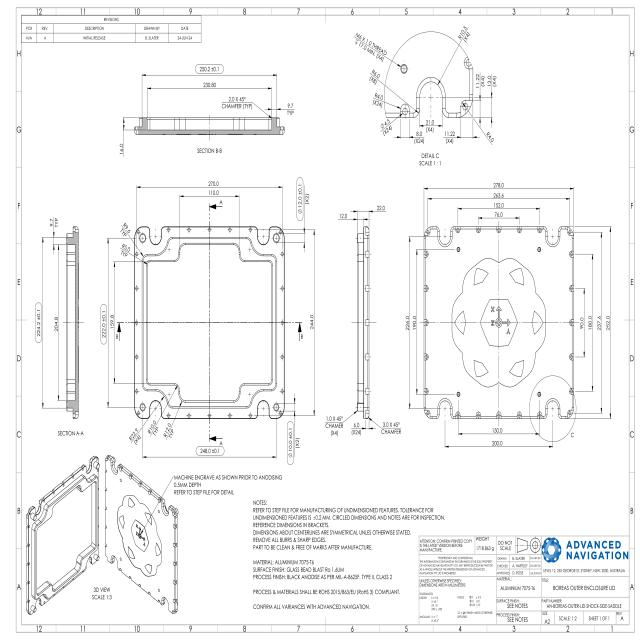dimension: (352, 31, 389, 64), (296, 176, 310, 222), (286, 420, 300, 466), (324, 414, 345, 437), (222, 95, 254, 110), (34, 301, 43, 344), (126, 425, 142, 448), (195, 62, 225, 74), (456, 24, 472, 46), (380, 420, 402, 436), (100, 303, 108, 345), (378, 116, 393, 138), (195, 446, 225, 456), (368, 67, 383, 86), (146, 419, 160, 438), (372, 90, 386, 108), (163, 421, 175, 442), (119, 221, 132, 239), (474, 72, 486, 88), (484, 130, 496, 146), (424, 118, 435, 135), (444, 130, 456, 145), (120, 242, 132, 257), (350, 421, 362, 436), (415, 129, 425, 146), (286, 101, 296, 117), (487, 73, 497, 88), (201, 80, 219, 88), (50, 215, 60, 228), (205, 180, 221, 188), (404, 314, 410, 333), (492, 191, 506, 199), (492, 200, 506, 208), (53, 314, 59, 332), (411, 314, 417, 332), (586, 314, 592, 332), (605, 314, 611, 332), (578, 315, 584, 332), (492, 210, 504, 218), (491, 426, 503, 434), (207, 189, 220, 196), (118, 141, 124, 156), (309, 313, 314, 331), (492, 181, 504, 188), (491, 439, 503, 446), (338, 212, 348, 220), (376, 204, 386, 212), (110, 314, 115, 329), (596, 314, 600, 332)
